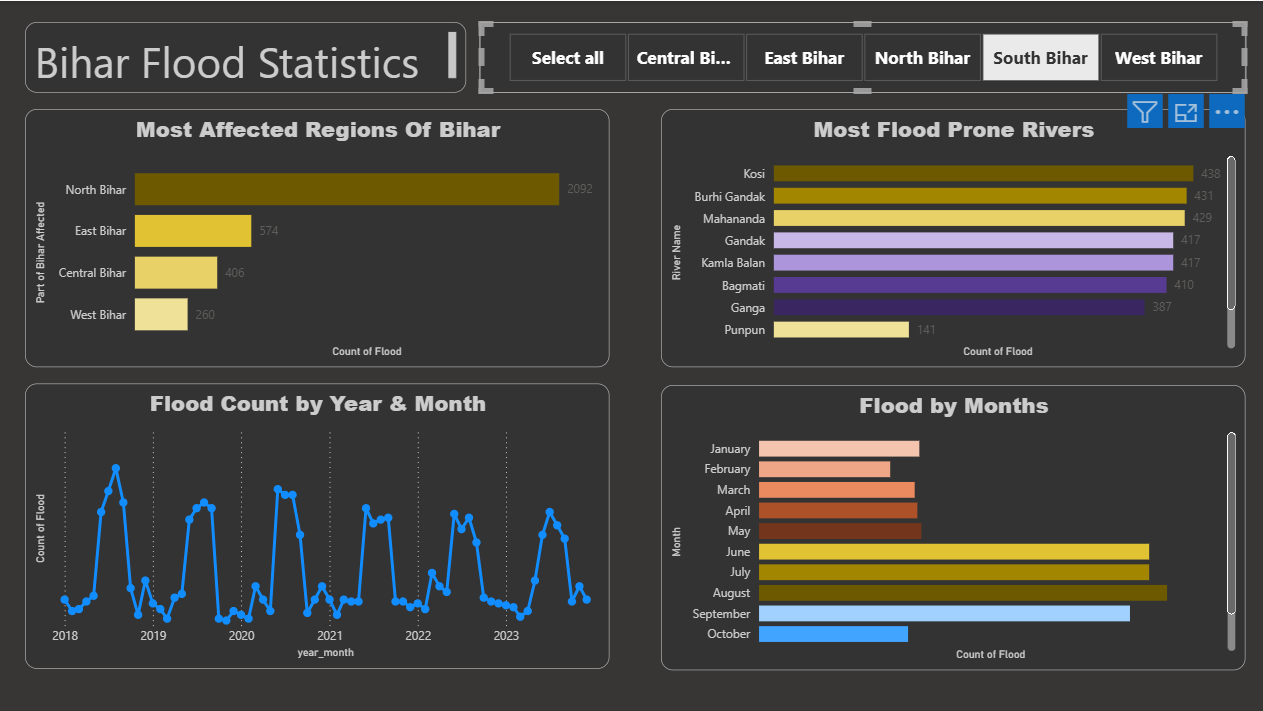

This screenshot's page, from the dashboard's own definition file:
{"tool":"powerbi","page":{"name":"Page 1","canvas":[1280,720],"ordinal":0},"visuals":[{"type":"clusteredBarChart","title":"Most Affected Regions Of Bihar","fields":{"Category":["bihar_river_flood_data_with_region_year_month.Part of Bihar Affected"],"Y":["CountNonNull(bihar_river_flood_data_with_region_year_month.Flood)"]},"box":[27,109.8,590.1,260.9],"z":0},{"type":"clusteredBarChart","title":"Most Flood Prone Rivers","fields":{"Category":["bihar_river_flood_data_with_region_year_month.River Name"],"Y":["CountNonNull(bihar_river_flood_data_with_region_year_month.Flood)"]},"box":[669.6,109.8,590.1,260.9],"z":1000},{"type":"lineChart","title":"Flood Count by Year & Month","fields":{"Y":["CountNonNull(bihar_river_flood_data_with_region_year_month.Flood)"],"Category":["bihar_river_flood_data_with_region_year_month.year_month"]},"box":[27,386.5,590.1,287.9],"z":2000},{"type":"slicer","fields":{"Values":["bihar_river_flood_data_with_region_year_month.Part of Bihar Affected"]},"box":[486.7,20.7,773,71.6],"z":3000},{"type":"textbox","box":[27,20.7,445.4,71.6],"z":4000},{"type":"clusteredBarChart","title":"Flood by Months","fields":{"Category":["year_month.year_month.Variation.Date Hierarchy.Month"],"Y":["CountNonNull(year_month.Flood)"]},"box":[669.6,388.1,590.1,287.9],"z":4001}]}

Visuals, with their boxes in screenshot pixels (x1, y1, x2, y2), scaled from the page's 1280x720 canvas onto the 1263x711 screenshot:
"Most Affected Regions Of Bihar" clusteredBarChart: (x1=27, y1=108, x2=609, y2=366)
"Most Flood Prone Rivers" clusteredBarChart: (x1=661, y1=108, x2=1243, y2=366)
"Flood Count by Year & Month" lineChart: (x1=27, y1=382, x2=609, y2=666)
slicer - bihar_river_flood_data_with_region_year_month.Part of Bihar Affected: (x1=480, y1=20, x2=1243, y2=91)
textbox: (x1=27, y1=20, x2=466, y2=91)
"Flood by Months" clusteredBarChart: (x1=661, y1=383, x2=1243, y2=668)
